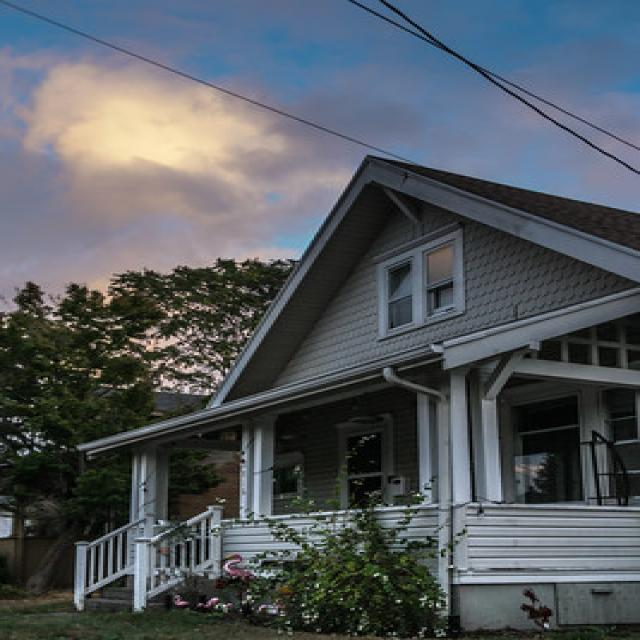Normal_building: (64, 151, 640, 626)
